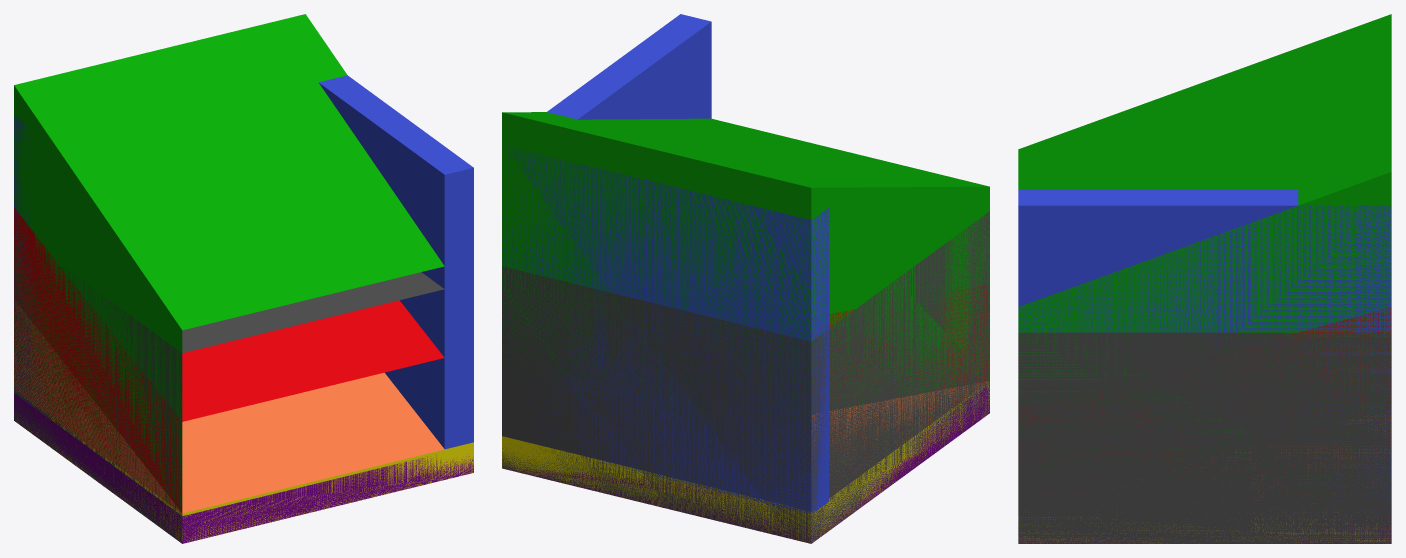
Rendered from prison_demo.glb.
The picture shows the model from 3 angles, left to right: view 1: azimuth 30°, elevation 25°; view 2: azimuth 150°, elevation 25°; view 3: azimuth 270°, elevation 25°; orthographic projection. The views are drawn at different scales.
Parts seen in each view (by area): view 1: stairs_03 -col, stairs_02 -col, stairs_01 -col, indoor_floor_tile_corner_inner -col, vent_straight -col, indoor_floor_tile_wall -col, indoor_floor_tile_ sides -col; view 2: stairs_03 -col, vent_corner -col, indoor_floor_tile_wall -col, vent_straight -col, indoor_floor_tile_corner_inner -col, indoor_floor_tile_ sides -col, indoor_floor_tile_door -col, stairs_01 -col, stairs_02 -col; view 3: vent_straight -col, stairs_03 -col, indoor_floor_tile_corner_inner -col, indoor_floor_tile_wall -col, stairs_02 -col.
Part boxes in pixels (box(x1,y1,x2,y2)): stairs_03 -col: box(14, 14, 444, 509); stairs_02 -col: box(14, 207, 444, 512); stairs_01 -col: box(14, 300, 444, 513); indoor_floor_tile_corner_inner -col: box(151, 75, 473, 540); vent_straight -col: box(14, 231, 444, 543); indoor_floor_tile_wall -col: box(14, 116, 473, 543); indoor_floor_tile_ sides -col: box(17, 398, 473, 542); stairs_03 -col: box(502, 112, 989, 490); vent_corner -col: box(502, 266, 811, 543); indoor_floor_tile_wall -col: box(502, 146, 989, 543); vent_straight -col: box(811, 211, 989, 543); indoor_floor_tile_corner_inner -col: box(510, 14, 989, 530); indoor_floor_tile_ sides -col: box(502, 382, 989, 543); indoor_floor_tile_door -col: box(502, 146, 810, 542); stairs_01 -col: box(811, 381, 987, 486); stairs_02 -col: box(812, 285, 989, 488); vent_straight -col: box(1018, 332, 1391, 543); stairs_03 -col: box(1018, 14, 1391, 494); indoor_floor_tile_corner_inner -col: box(1018, 190, 1391, 511); indoor_floor_tile_wall -col: box(1019, 205, 1391, 543); stairs_02 -col: box(1019, 308, 1391, 494).
Size of the model in its own units: 2 by 2.2 by 2.
